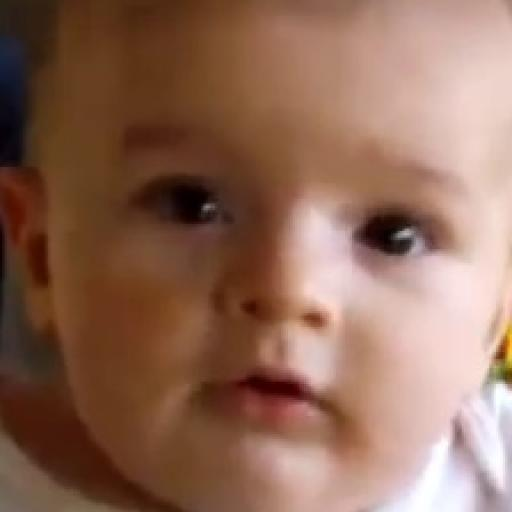Autism: (41, 9, 496, 512)
